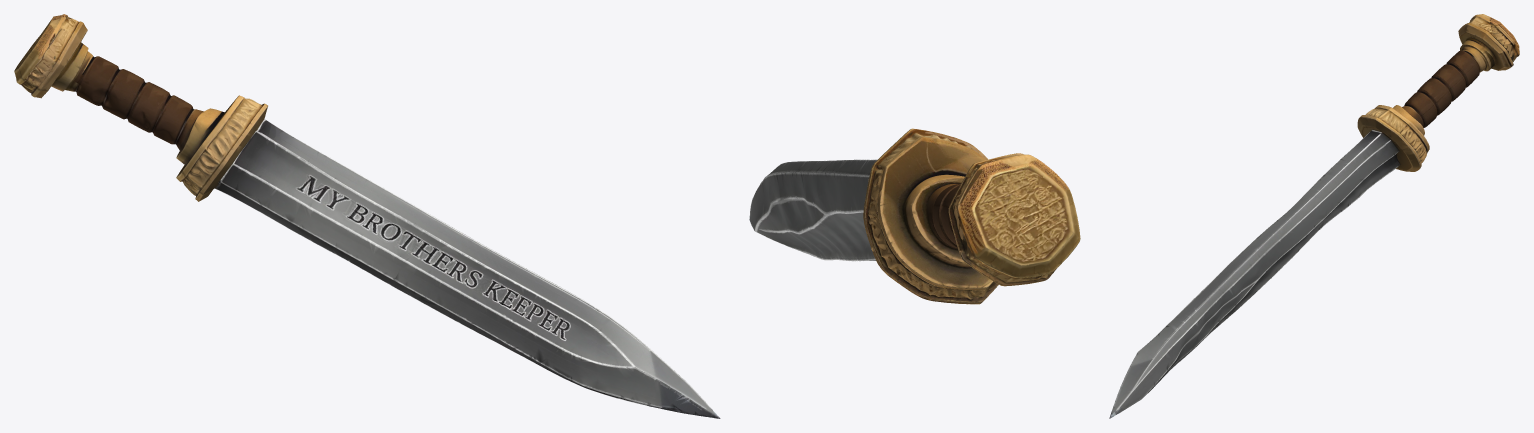
The model's file is my-brothers-keeper.prod.glb.
The picture shows the model from 3 angles, left to right: view 1: azimuth 30°, elevation 25°; view 2: azimuth 150°, elevation 25°; view 3: azimuth 270°, elevation 25°; orthographic projection. The views are drawn at different scales.
Size of the model in its own units: 1.87 by 1.26 by 1.9.
1 material, 1 textured.
